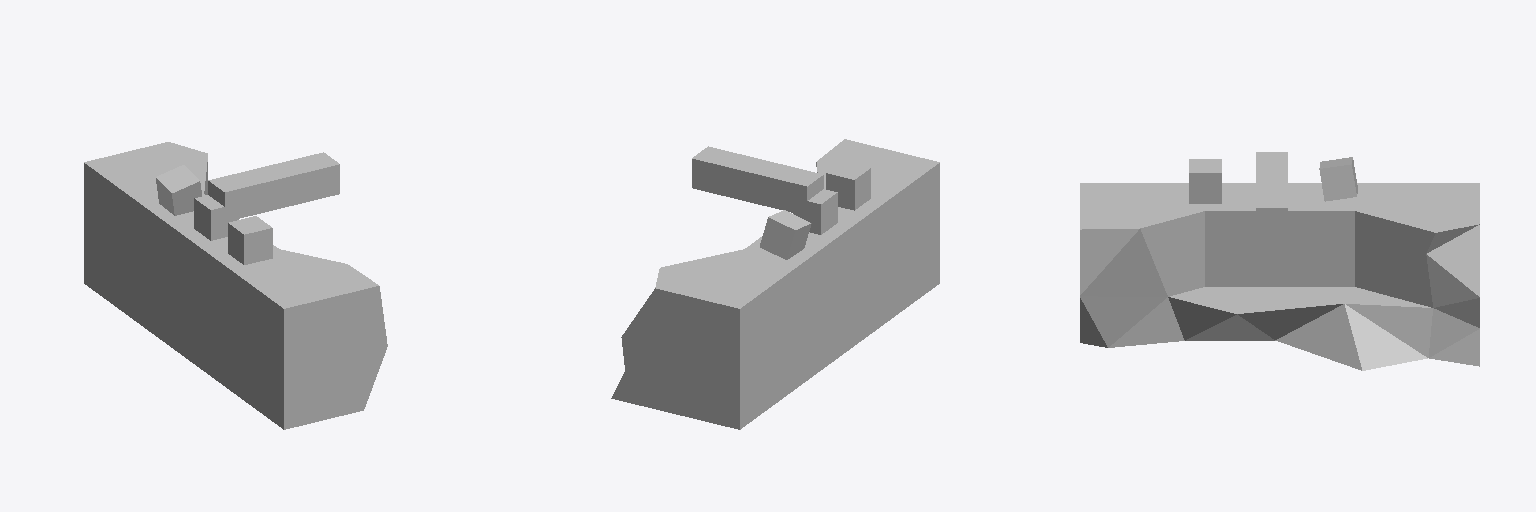
File: sinkbroke.obj
3 views of the same model, side by side, from view 1: azimuth 30°, elevation 25°; view 2: azimuth 150°, elevation 25°; view 3: azimuth 270°, elevation 25° (orthographic).
Visible parts, largest first — view 1: brokenass; view 2: brokenass; view 3: brokenass.
Part boxes in pixels (x1,y1,x2,y2): brokenass: (84,142,387,429); brokenass: (611,139,939,429); brokenass: (1080,152,1479,370).
Size of the model in its own units: 17.7 by 19.5 by 42.6.